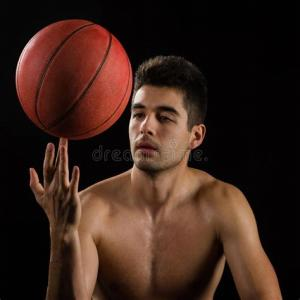Basket: (13, 18, 134, 142)
